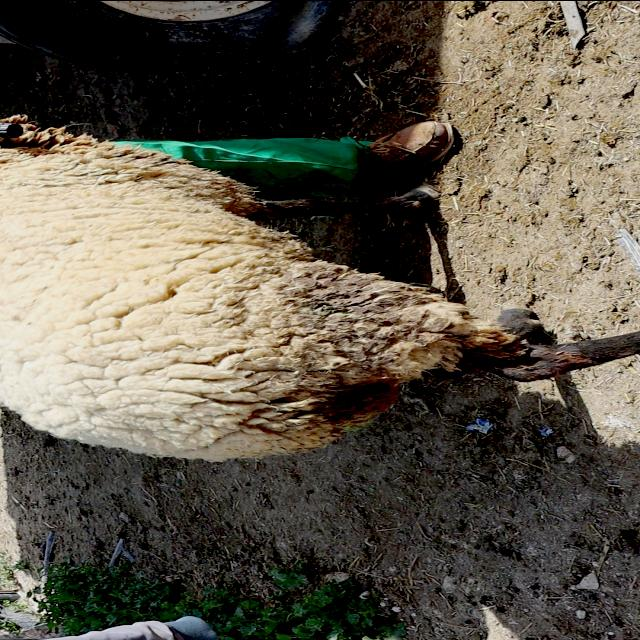Score_5: (0, 115, 639, 460)
